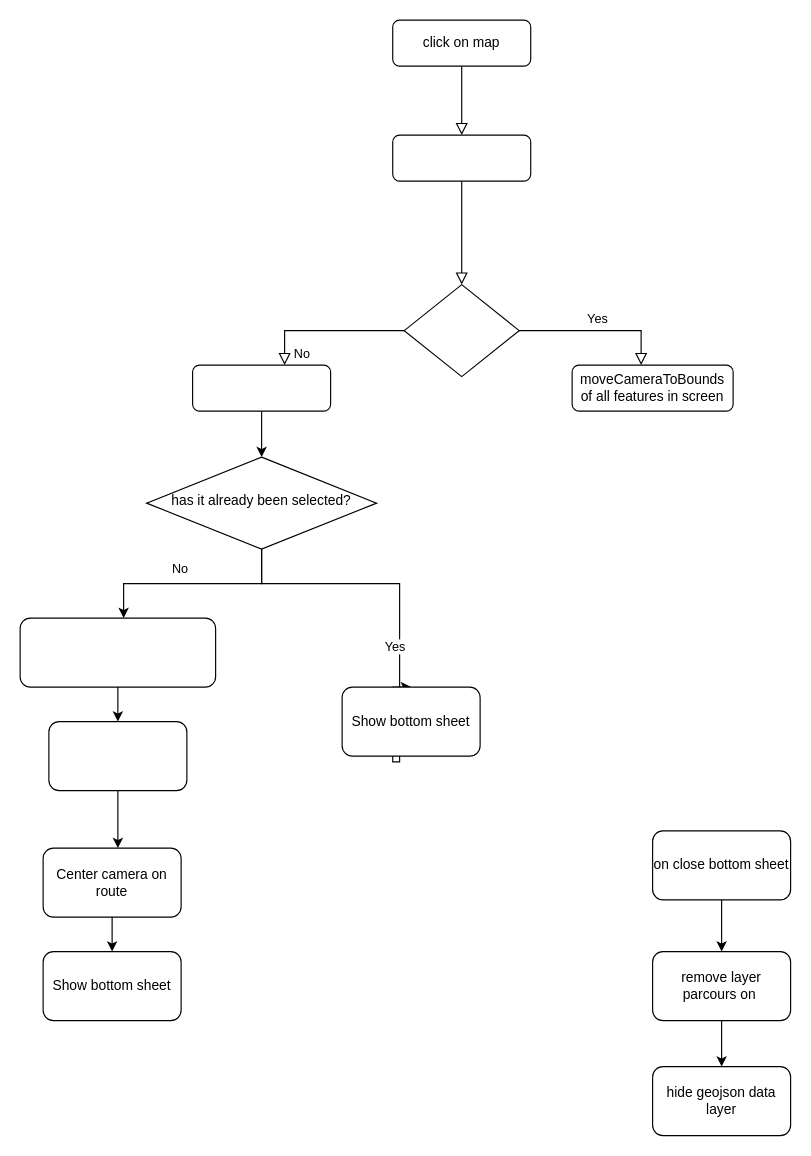
This 811x1156 diagram has some shape labels left out. The centre of each missing label's shape, as x and y in pixels:
"get coordinates" goes at point 461,157.
"get geoJson" goes at point 117,755.
"is cluster ?" goes at point 461,330.
"is it a point" goes at point 261,387.
"show flag" goes at point 117,652.
